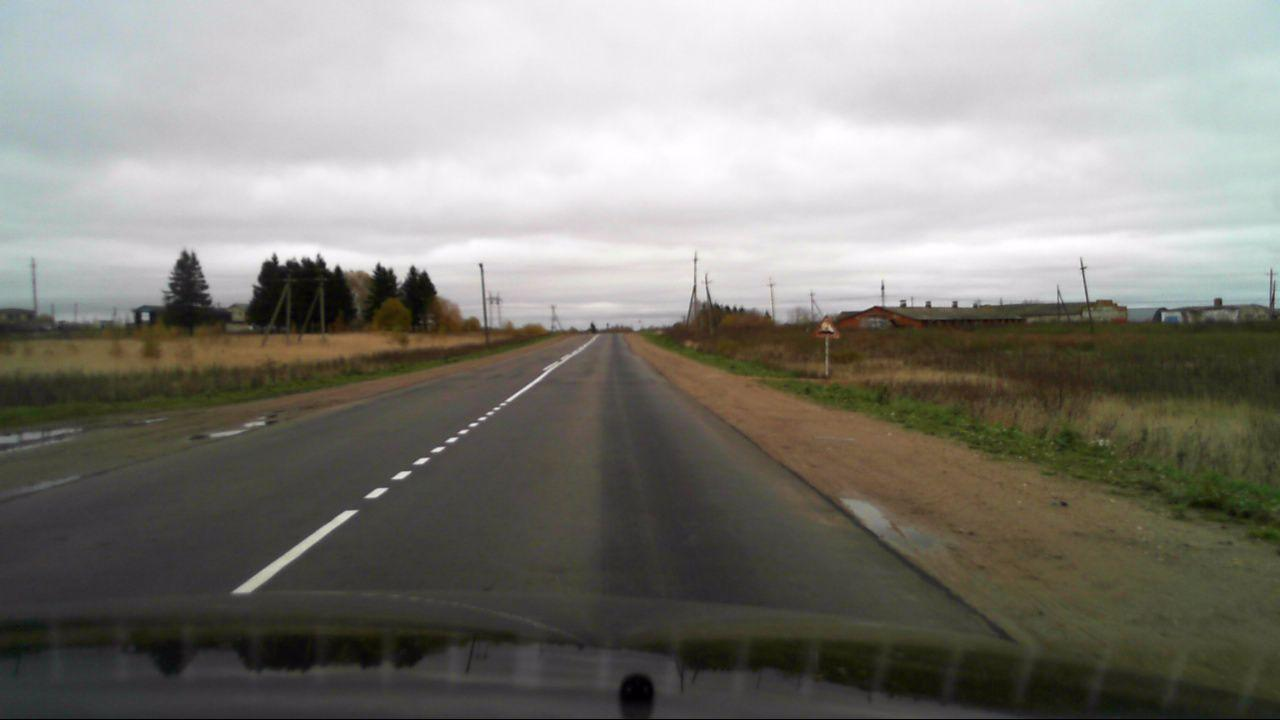1_16: (813, 316, 839, 341)
